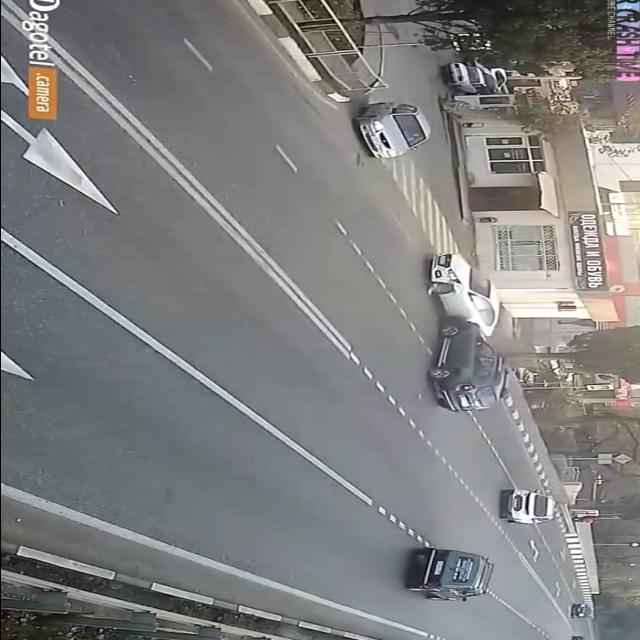accident: (417, 249, 515, 417)
